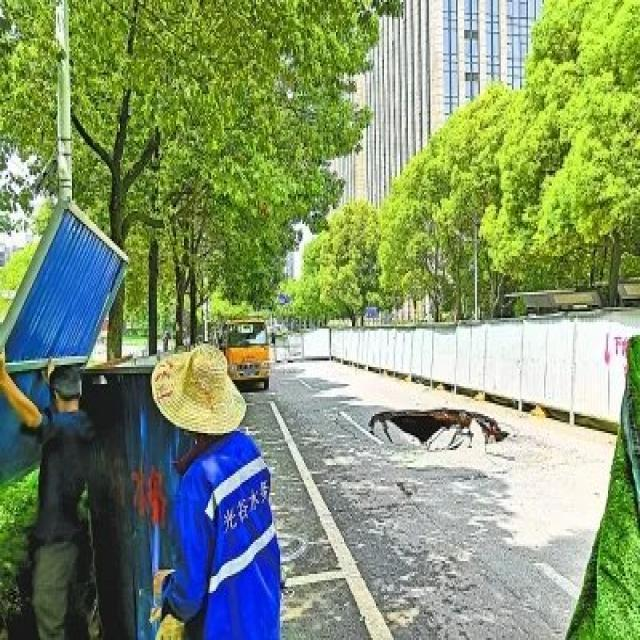pothole: (365, 406, 508, 455)
